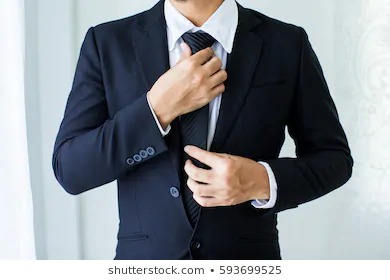F_tie: (169, 26, 221, 239)
